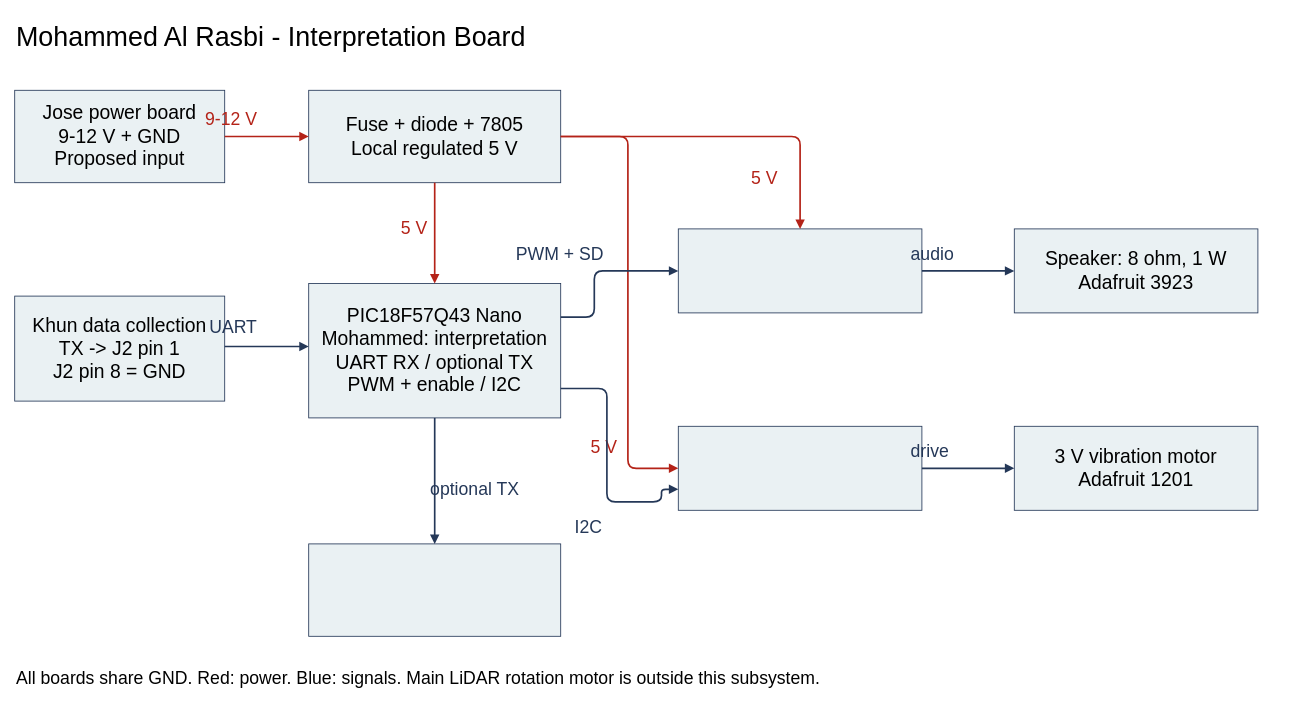
This 1306x717 diagram has some shape labels left out. Each missing label, with the centre of its shape:
"DRV2605L QT driver Adafruit 2305" belongs at point 799,467.
"J3 optional UART OUT Pin 1: TX; pin 8: GND Destination unassigned" belongs at point 434,589.
"PWM filter + PAM8302 Adafruit 2130" belongs at point 799,270.
